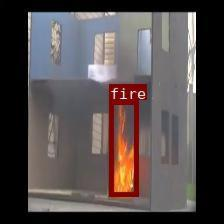fire: (109, 100, 138, 196)
